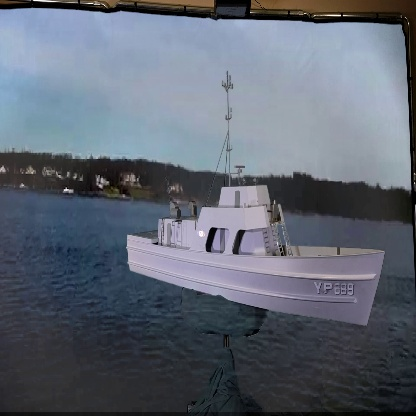YP689: (117, 63, 388, 328)
